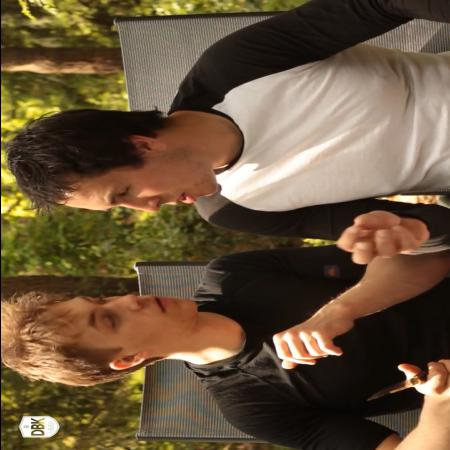long weapon: (353, 352, 449, 408)
